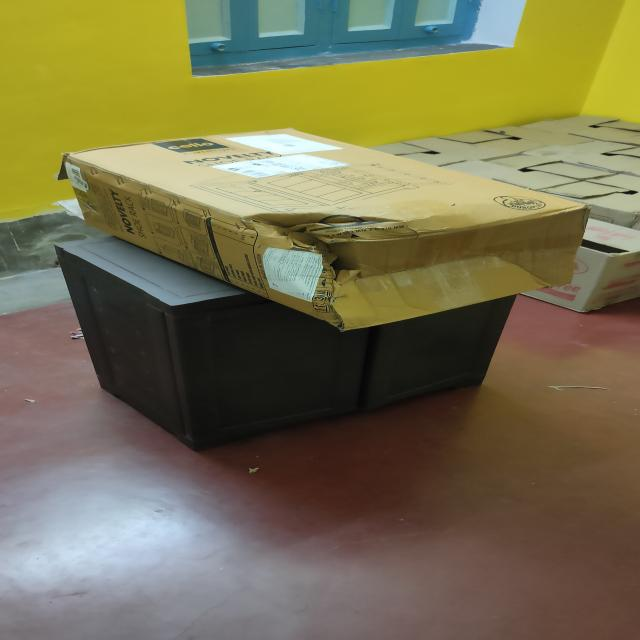tear: (220, 177, 601, 332)
